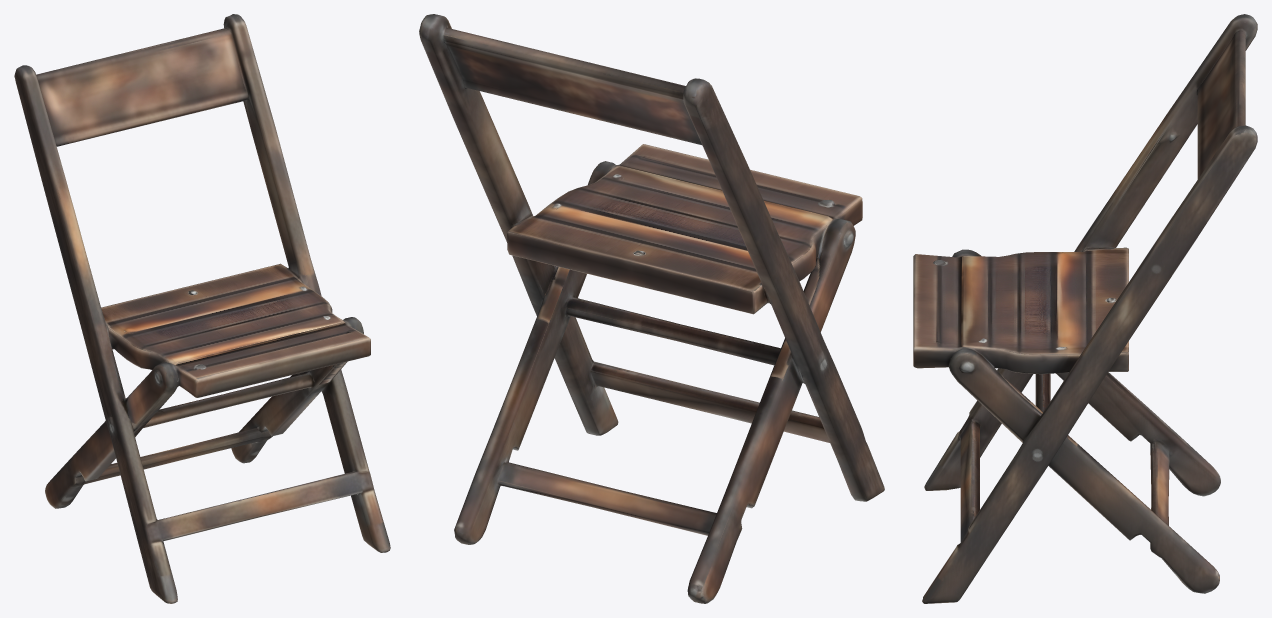
File: WALNUT_WOODEN_BEVERLY_Chair_35InchesTall_0208184720_texture.glb
3 views of the same model, side by side, from view 1: azimuth 30°, elevation 25°; view 2: azimuth 150°, elevation 25°; view 3: azimuth 270°, elevation 25° (orthographic). The views are drawn at different scales.
Parts seen in each view (by area): view 1: Mesh_0; view 2: Mesh_0; view 3: Mesh_0.
Part boxes in pixels (x1,y1,x2,y2): Mesh_0: (14, 14, 390, 603); Mesh_0: (419, 14, 884, 603); Mesh_0: (913, 14, 1257, 603).
Bounding box in the file's own units: 0.4929 × 0.889 × 0.586.
Materials: 1 (1 with a texture image).
